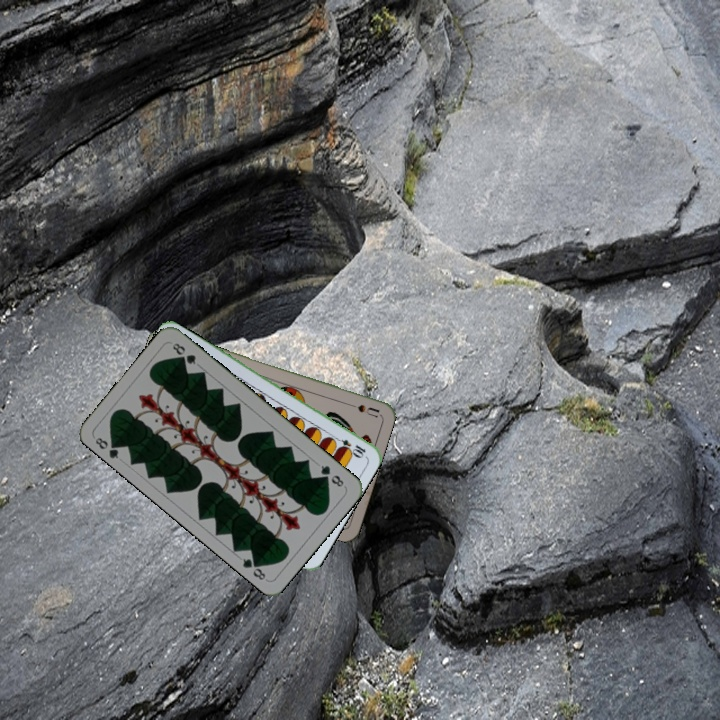E10: (329, 432, 368, 459)
G8: (316, 461, 348, 490), (91, 433, 123, 462)
SU: (341, 398, 381, 420)
